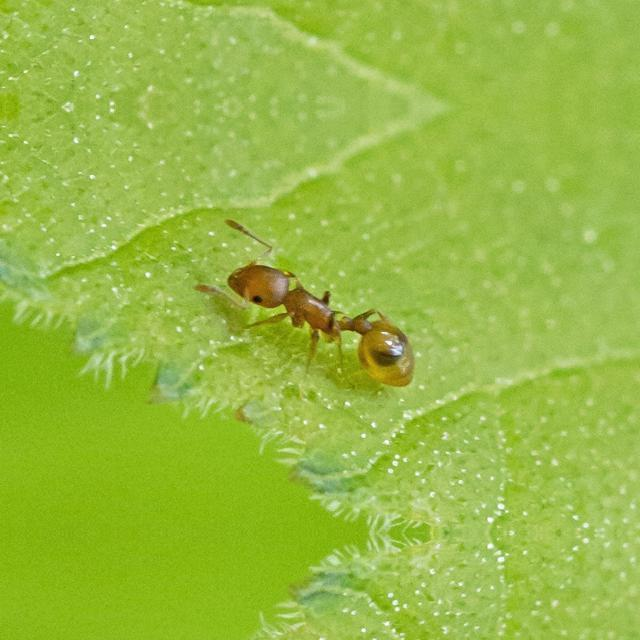Temnothorax: (203, 230, 437, 406)
